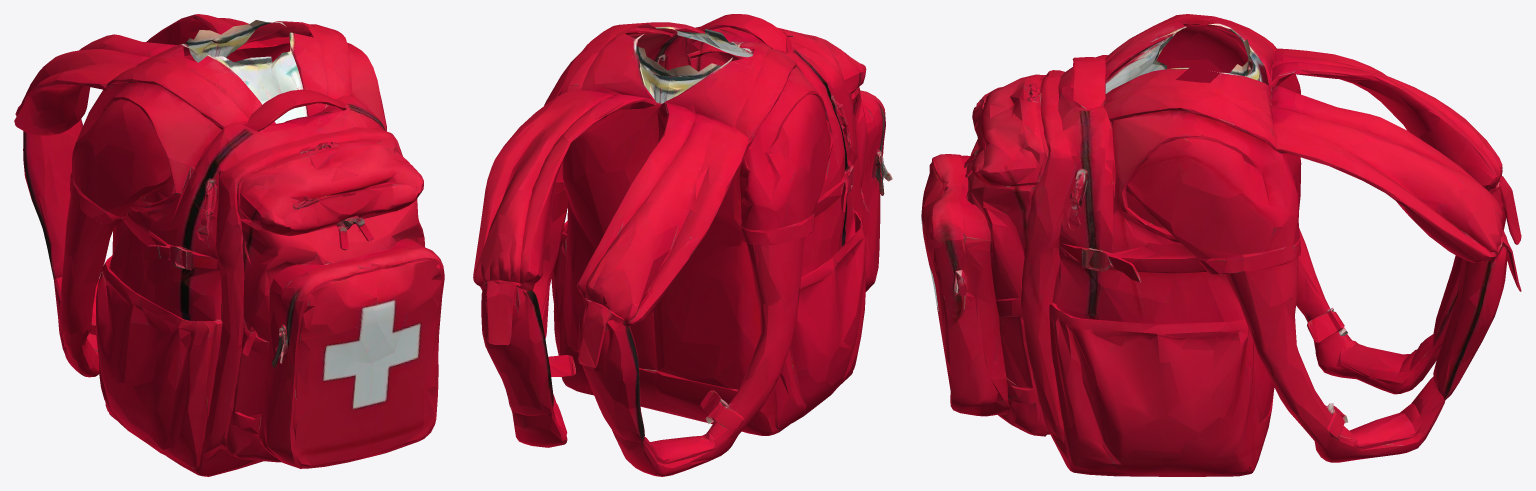
File: patrol_backpack.glb
3 renders of one model, left to right at view 1: azimuth 30°, elevation 25°; view 2: azimuth 150°, elevation 25°; view 3: azimuth 270°, elevation 25°, orthographic. The views are drawn at different scales.
Bounding box in the file's own units: 0.9938 × 1.28 × 1.79.
Materials: 1 (1 with a texture image).
